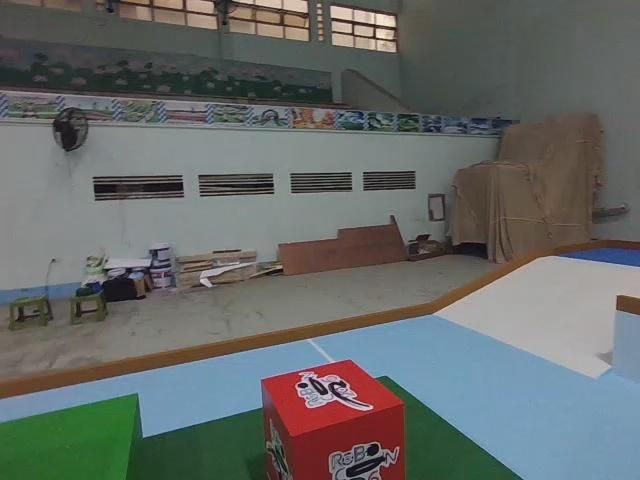R1: (258, 356, 406, 480)
